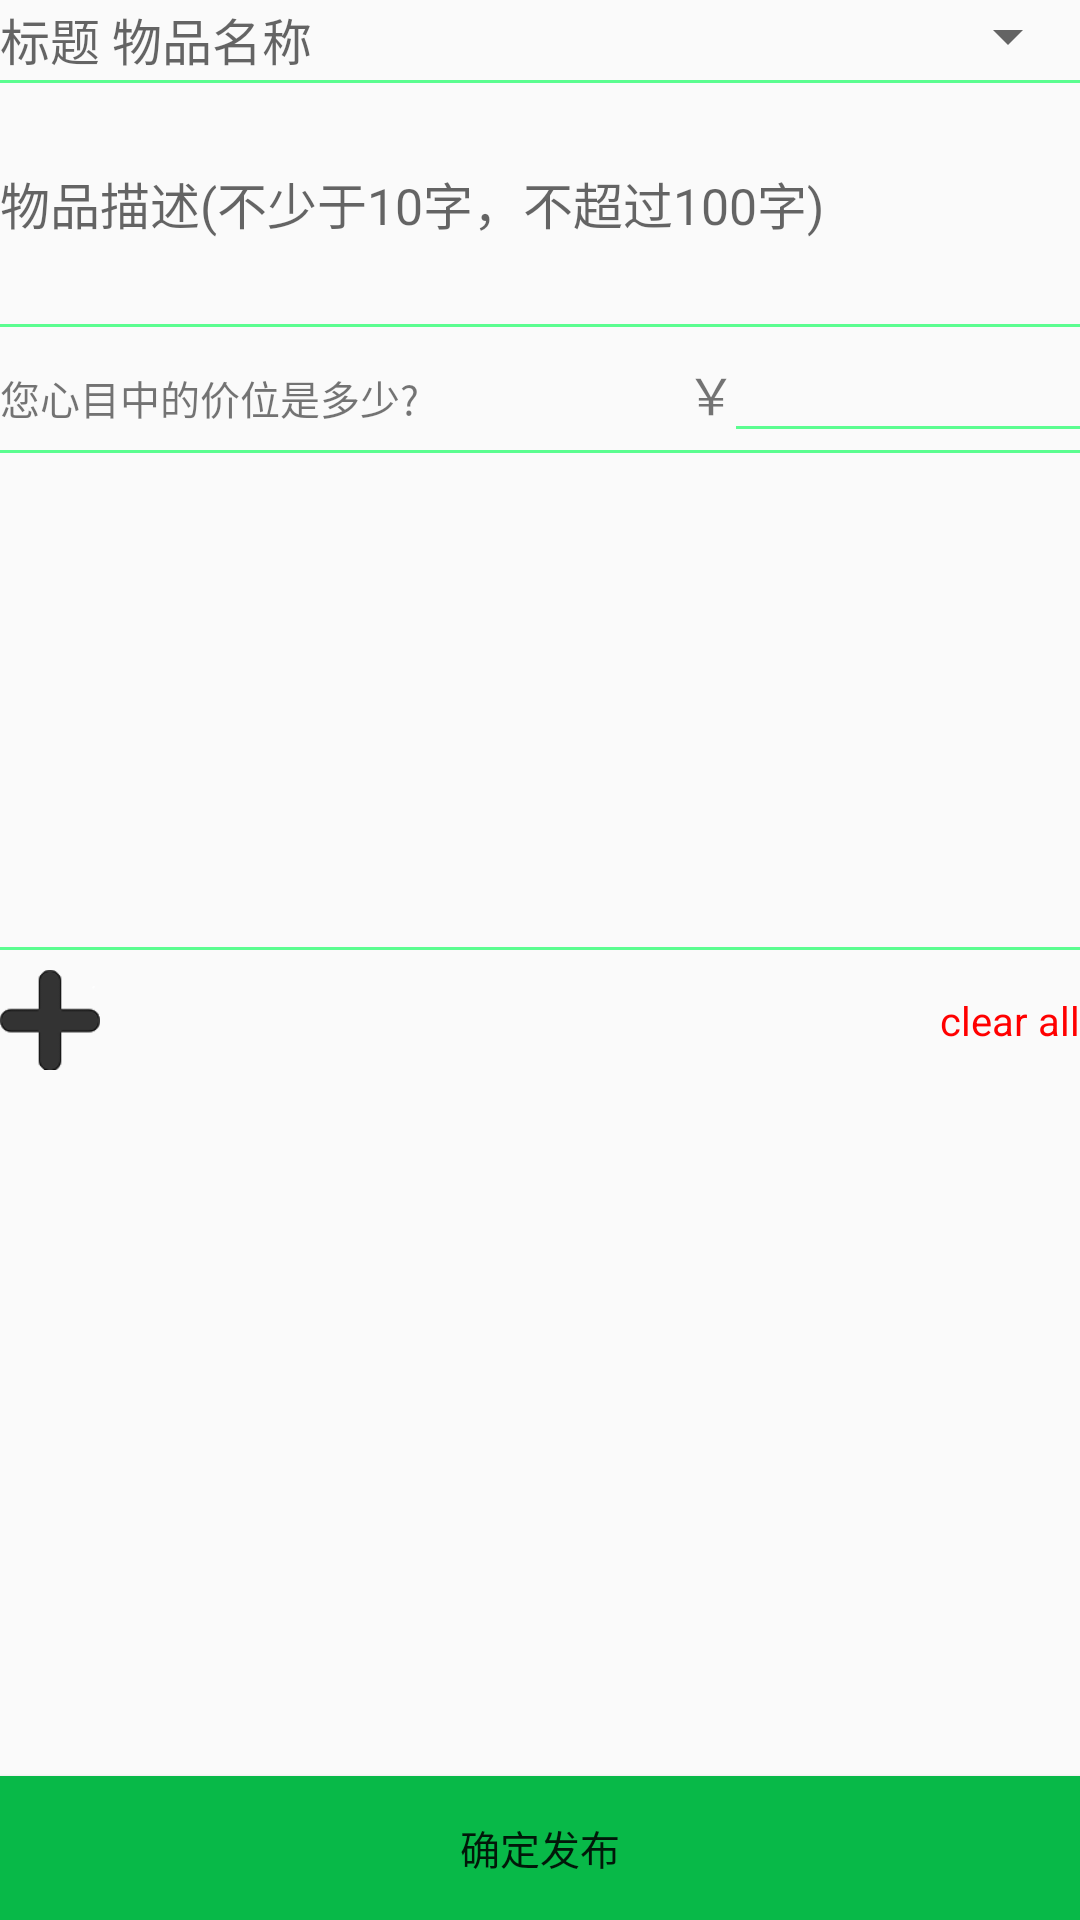

Icon bounding boxes for this 1080 x 1920 phone screenshot, format [x1,y1,x2,y2]:
tianjia: [0,970,100,1070]
